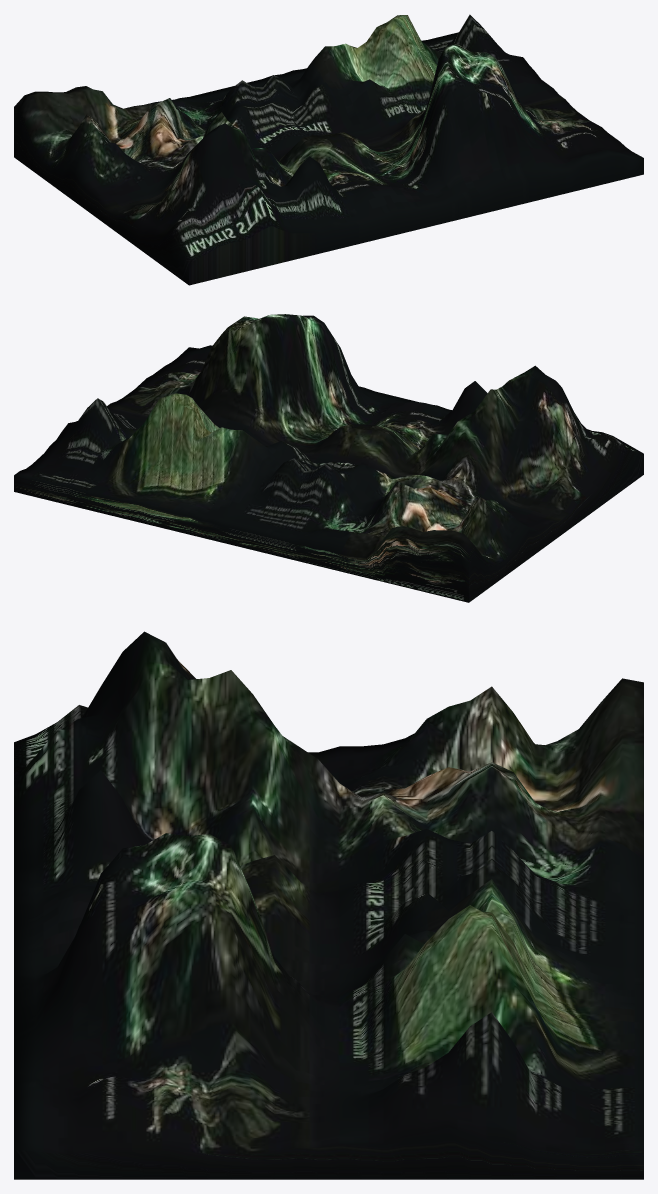
File: CUL_38_Mantis.glb
3 renders of one model, top to bottom at view 1: azimuth 30°, elevation 25°; view 2: azimuth 150°, elevation 25°; view 3: azimuth 270°, elevation 25°, orthographic. The views are drawn at different scales.
Parts seen in each view (by area): view 1: CUL_38_Mantis; view 2: CUL_38_Mantis; view 3: CUL_38_Mantis.
Boxes of the visible parts, box(x1,y1,x2,y2) form: CUL_38_Mantis: box(14, 14, 643, 285); CUL_38_Mantis: box(14, 314, 643, 602); CUL_38_Mantis: box(14, 631, 643, 1179).
Bounding box in the file's own units: 2 × 0.51 × 1.33.
Materials: 1 (1 with a texture image).
